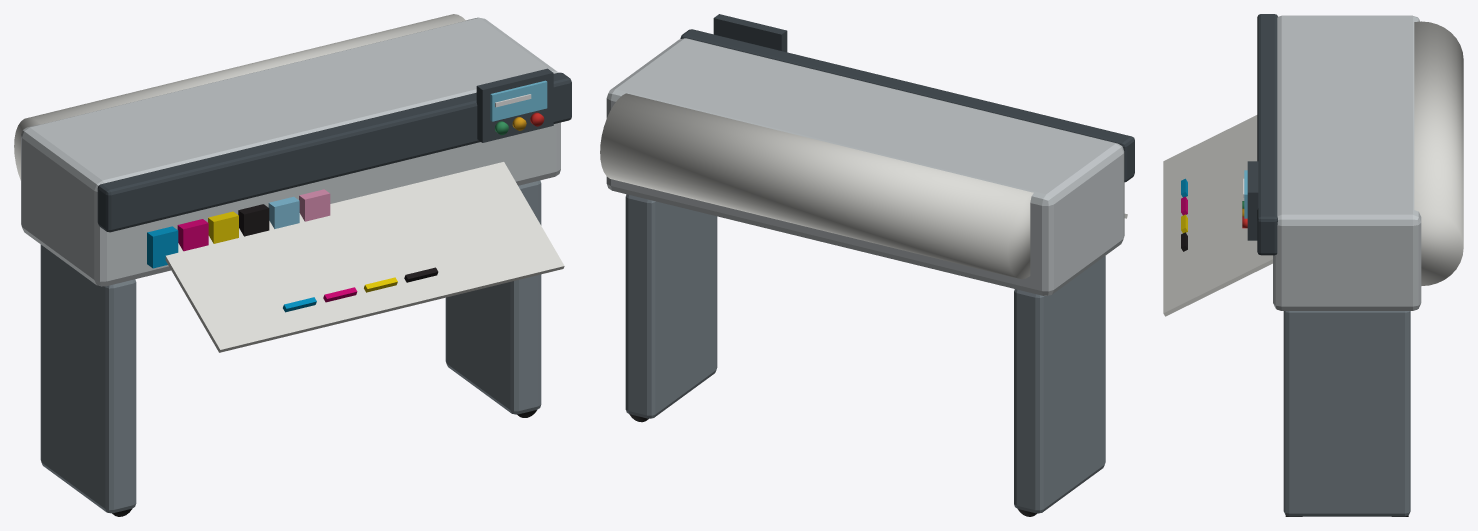
The model's file is m_proofer.glb.
3 renders of one model, left to right at view 1: azimuth 30°, elevation 25°; view 2: azimuth 150°, elevation 25°; view 3: azimuth 270°, elevation 25°, orthographic. The views are drawn at different scales.
Visible parts, largest first — view 1: m_proofer; view 2: m_proofer; view 3: m_proofer.
Boxes of the visible parts, left/top/right/bottom form: m_proofer: left=14, top=14, right=571, bottom=516; m_proofer: left=600, top=14, right=1134, bottom=516; m_proofer: left=1163, top=14, right=1463, bottom=516.
Size of the model in its own units: 0.46 by 0.339 by 0.2836.
